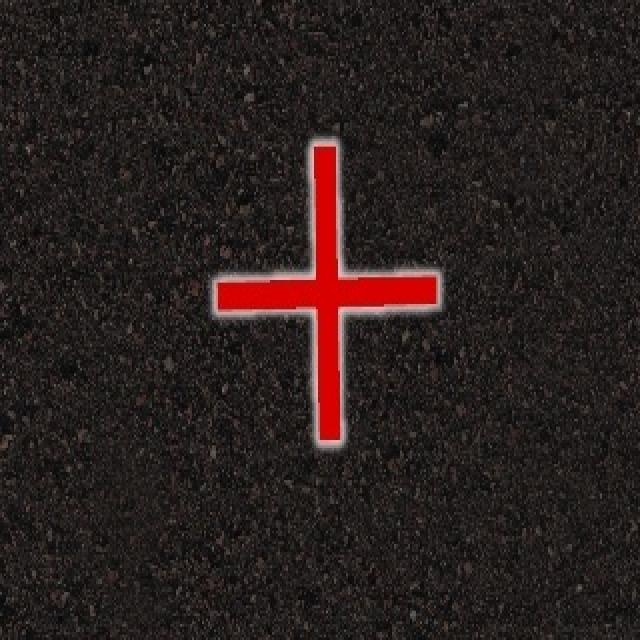x_marker: (215, 143, 437, 441)
